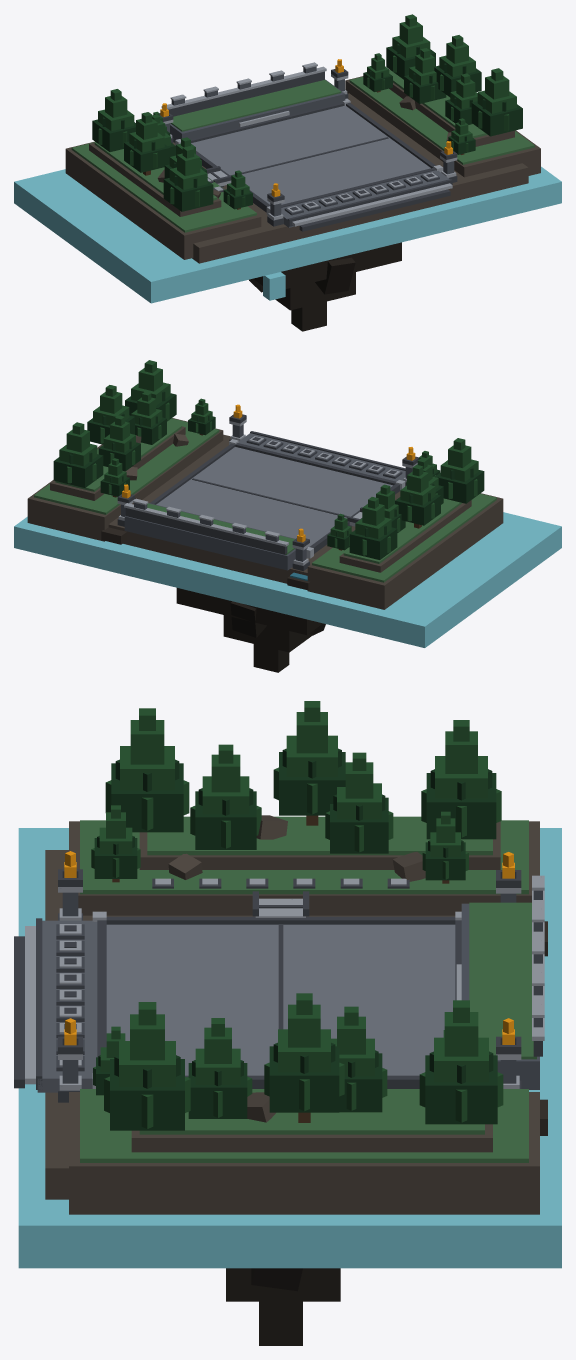
The model's file is board_arena_blocking.gltf.
3 renders of one model, top to bottom at view 1: azimuth 30°, elevation 25°; view 2: azimuth 150°, elevation 25°; view 3: azimuth 270°, elevation 25°, orthographic. The views are drawn at different scales.
Parts seen in each view (by area): view 1: waterfall_foam (×2), arena_floor_slab, strata_layer_1, west_cliff_tier1, north_terrace_top, east_cliff_turf1, west_cliff_turf1, east_cliff_tier1, strata_layer_4, north_terrace_base, north_wall_main, bench_dais_base (+32 smaller); view 2: waterfall_foam, arena_floor_slab, west_cliff_tier1, strata_layer_1, east_cliff_tier1, north_terrace_base, east_cliff_turf1, west_cliff_turf1, strata_layer_4, north_wall_main, stalactite_main, west_cliff_tier2 (+30 smaller); view 3: waterfall_foam, arena_floor_slab, east_cliff_tier1, west_cliff_turf1, east_cliff_turf1, west_cliff_tier1, north_terrace_top, east_cliff_tier2, east_cliff_turf2, west_cliff_turf2, bench_dais_base, west_cliff_tier2 (+46 smaller).
Part boxes in pixels (x1,y1,x2,y2): waterfall_foam (×2): (14,166,561,303); arena_floor_slab: (191,106,430,204); strata_layer_1: (173,93,528,263); west_cliff_tier1: (65,141,261,259); north_terrace_top: (170,80,341,131); east_cliff_turf1: (349,70,534,164); west_cliff_turf1: (71,142,256,232); east_cliff_tier1: (345,69,540,177); strata_layer_4: (253,242,401,288); north_terrace_base: (170,79,345,142); north_wall_main: (168,71,324,116); bench_dais_base: (281,170,449,227); waterfall_foam: (14,512,561,647); arena_floor_slab: (156,447,392,546); west_cliff_tier1: (307,493,503,609); strata_layer_1: (108,434,400,583); east_cliff_tier1: (27,418,223,541); north_terrace_base: (124,503,307,570); east_cliff_turf1: (34,418,219,514); west_cliff_turf1: (312,493,496,582); strata_layer_4: (176,588,322,635); north_wall_main: (125,508,287,554); stalactite_main: (223,615,312,652); west_cliff_tier2: (339,500,471,572); waterfall_foam: (18,828,561,1268); arena_floor_slab: (106,924,455,1075); east_cliff_tier1: (69,1092,539,1214); west_cliff_turf1: (80,820,528,894); east_cliff_turf1: (80,1089,528,1162); west_cliff_tier1: (69,821,539,915); north_terrace_top: (469,902,536,1059); east_cliff_tier2: (131,1124,492,1152); east_cliff_turf2: (139,1092,484,1134); west_cliff_turf2: (147,816,492,855); bench_dais_base: (37,920,97,1092); west_cliff_tier2: (139,821,500,869).
Bounding box in the file's own units: 37.44 × 21.36 × 21.81.
Materials: 1 (1 with a texture image).
